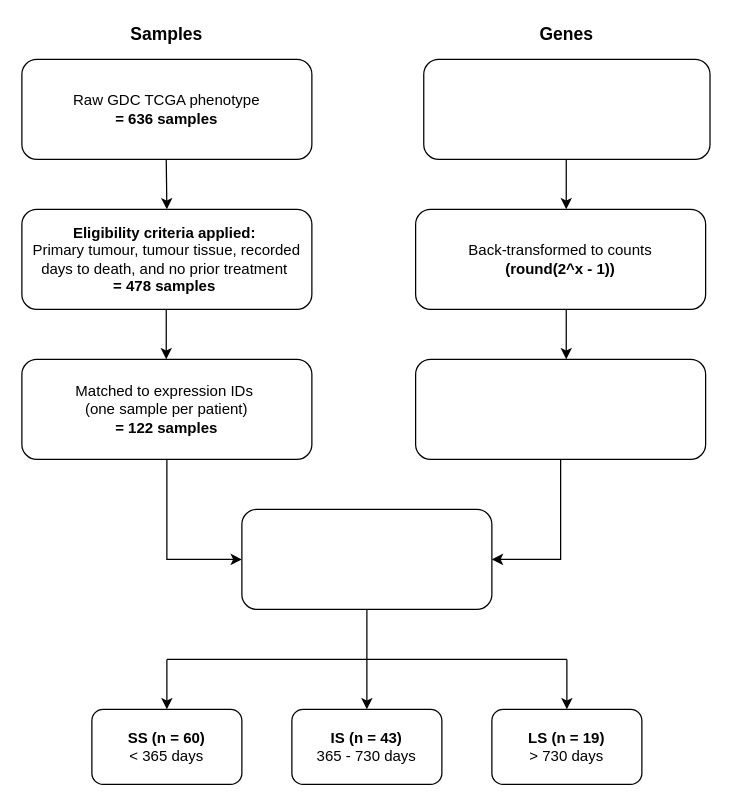
Some shapes in this 733 by 806 pixel diagram are drawn without their labels. The shapes that lost their labels are listed below. From the top down, each one's centre as x and y in pixels, then its label:
[566,108]: Raw GDC TCGA gene expression = 60 660 genes
[560,408]: Protein-coding filter (biomaRt, GRCh38.p14 ) = 19 411 genes
[366,558]: DESeq2 input 122 samples × 19411 genes
